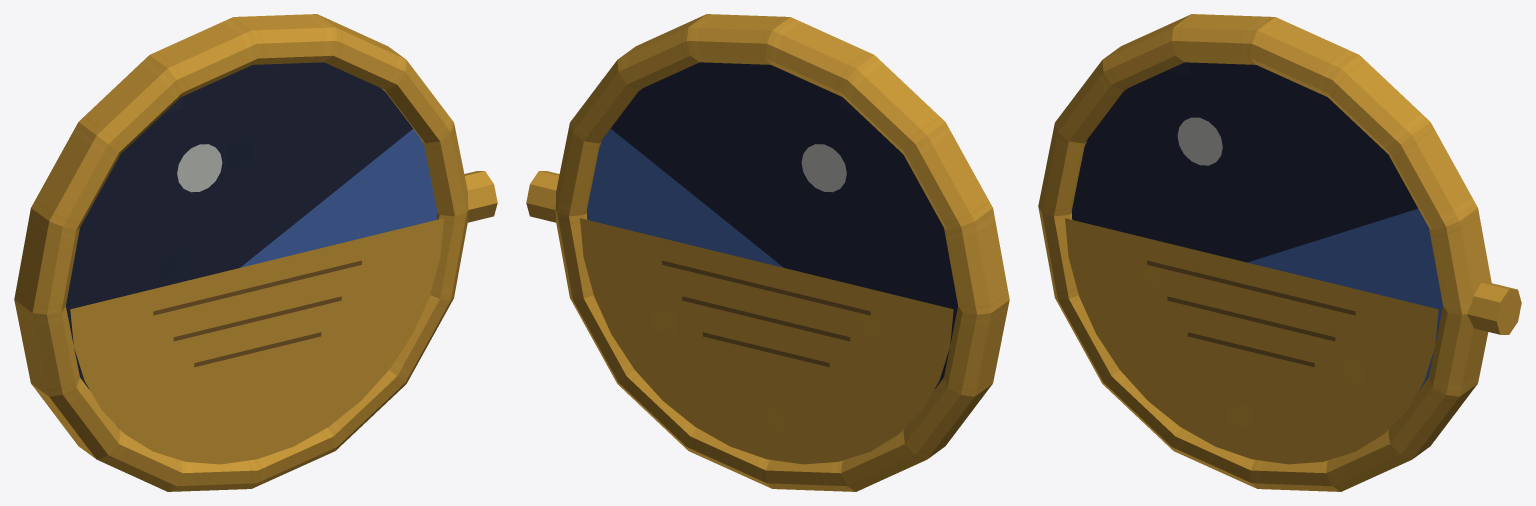
File: clock_27.obj
3 views of the same model, side by side, from view 1: azimuth 30°, elevation 25°; view 2: azimuth 150°, elevation 25°; view 3: azimuth 330°, elevation 25° (orthographic).
Bounding box in the file's own units: 0.6363 × 0.6037 × 0.075.
